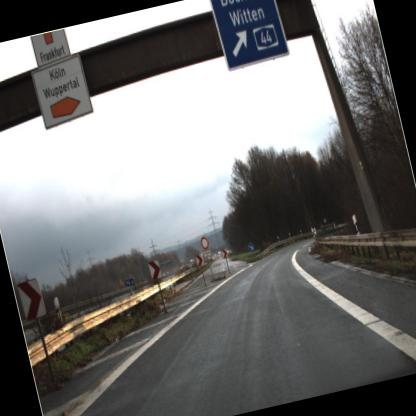mandatory: (244, 240, 258, 255)
prohibitory: (199, 235, 211, 253)
